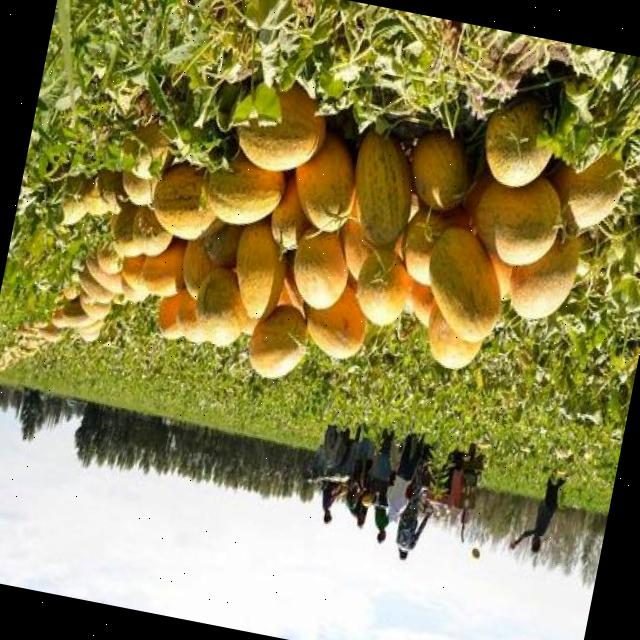Hami Melon: (414, 222, 516, 346), (458, 163, 567, 270), (342, 127, 428, 249), (230, 81, 334, 180), (342, 130, 423, 252), (222, 216, 304, 324), (284, 133, 362, 235), (201, 148, 292, 233), (143, 160, 230, 248), (406, 126, 482, 214), (242, 297, 314, 388), (286, 225, 357, 316), (350, 241, 416, 328)
